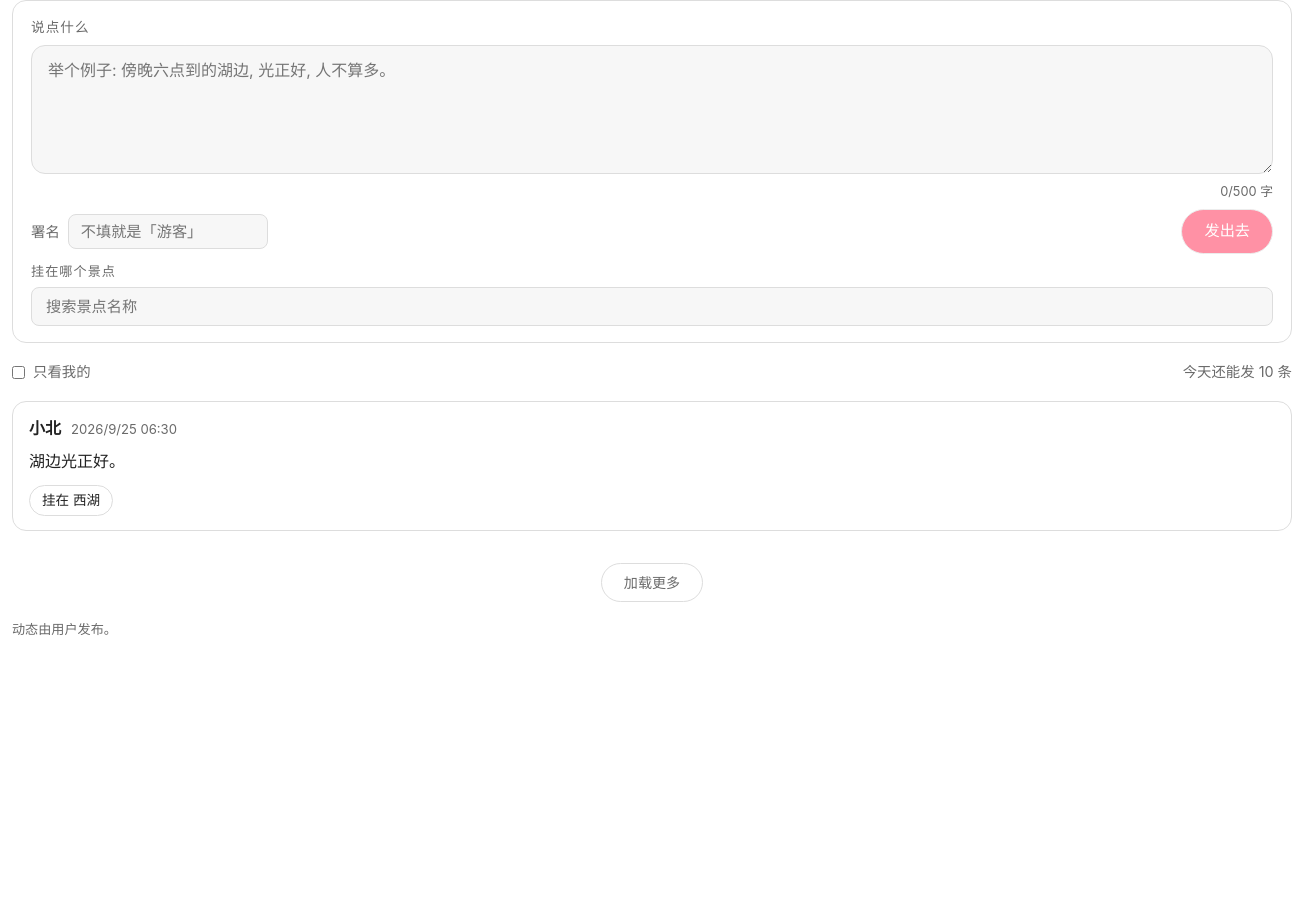
Test: PostsPage › 要下一页失败时说清错误, 按钮留着能再点一次
Expected: the text "湖边光正好。" is shown, top-left (29, 451), bottom-right (125, 471)
What coordinates should you click on to do the following:
click the button "加载更多"
I would click on:
 (652, 582)
Its box is top-left (601, 563), bottom-right (703, 602).
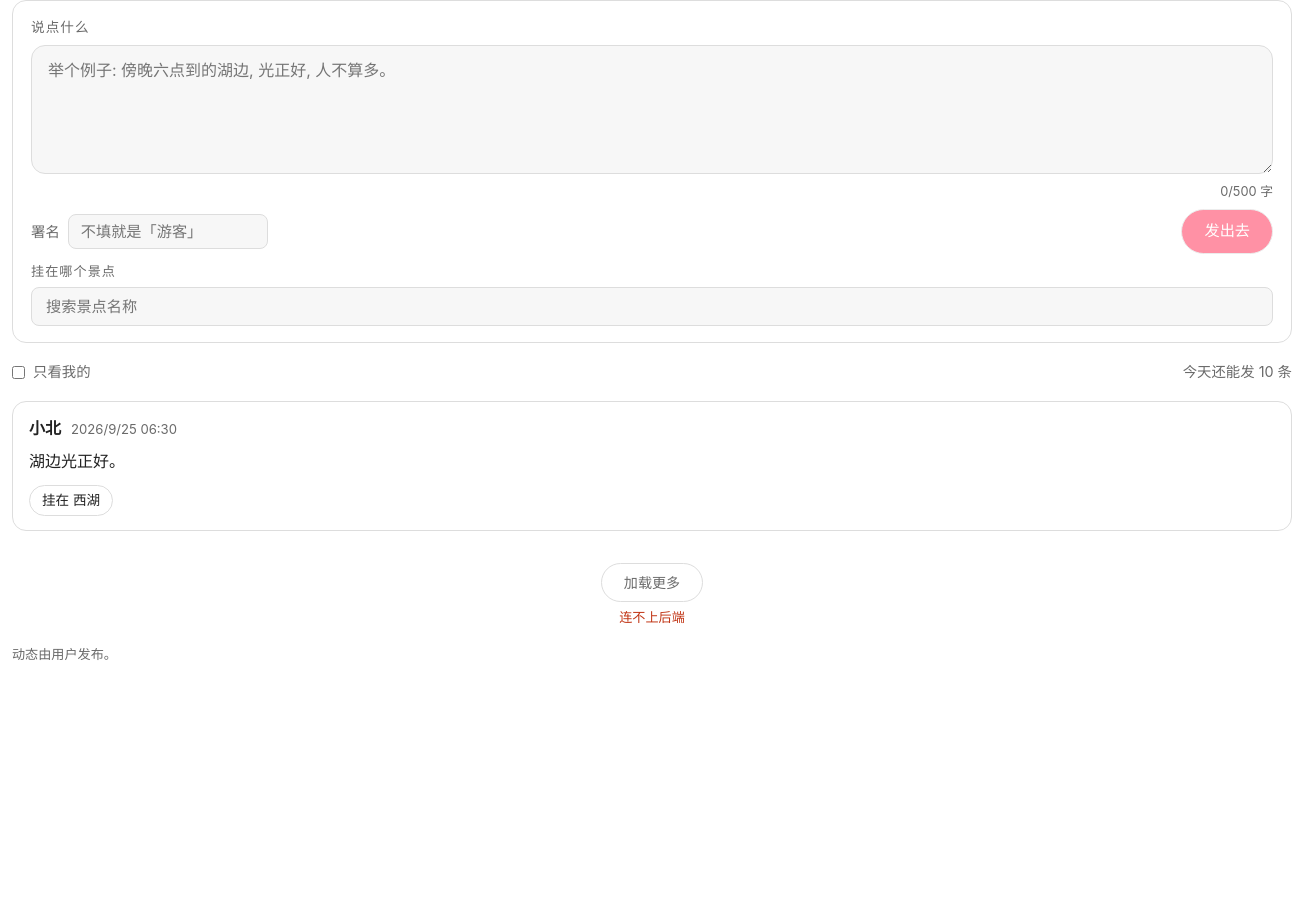
Result: the text "连不上后端" is shown at top-left (619, 608), bottom-right (685, 627)
